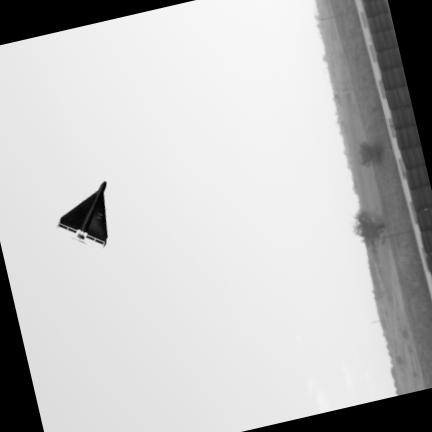Shahed: (58, 181, 107, 244)
